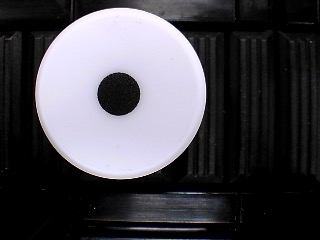BOHO: (35, 7, 207, 180)
